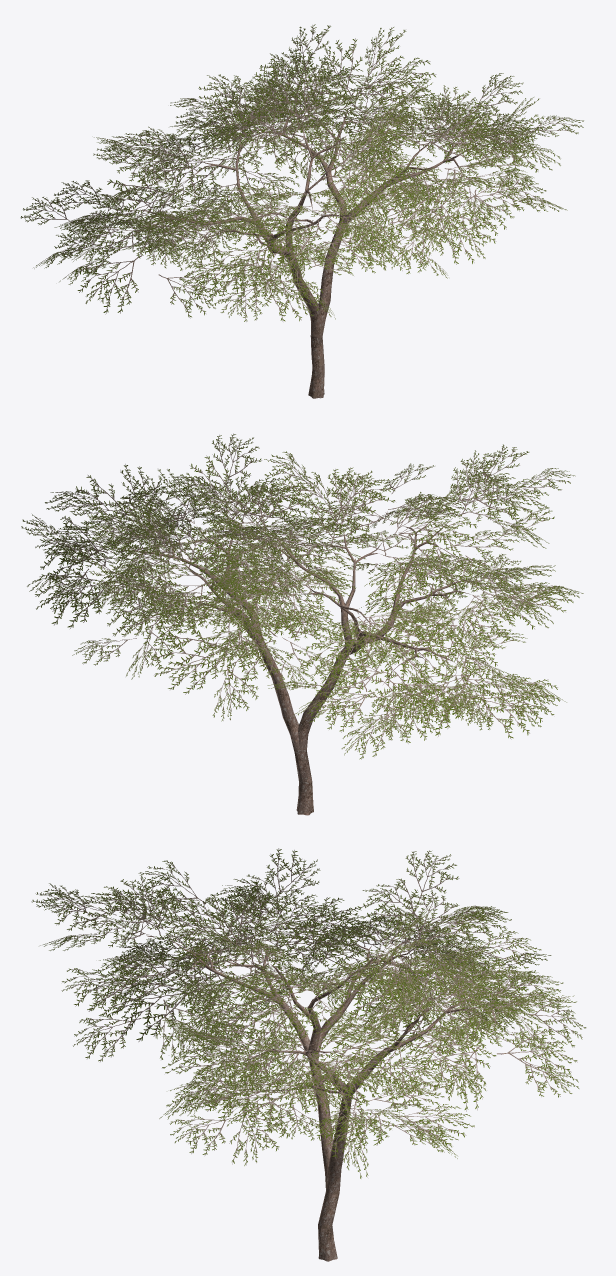
Rendered from p_acacia.glb.
3 views of the same model, one above another, from view 1: azimuth 30°, elevation 25°; view 2: azimuth 150°, elevation 25°; view 3: azimuth 270°, elevation 25° (orthographic). The views are drawn at different scales.
Parts seen in each view (by area): view 1: acacia branch_1_acacia branch_1Mat_0, bark05_0_bark05_0Mat_0; view 2: acacia branch_1_acacia branch_1Mat_0, bark05_0_bark05_0Mat_0; view 3: acacia branch_1_acacia branch_1Mat_0, bark05_0_bark05_0Mat_0.
Part boxes in pixels (x1,y1,x2,y2): acacia branch_1_acacia branch_1Mat_0: (20,24,583,321); bark05_0_bark05_0Mat_0: (118,92,499,398); acacia branch_1_acacia branch_1Mat_0: (21,433,583,759); bark05_0_bark05_0Mat_0: (110,504,482,815); acacia branch_1_acacia branch_1Mat_0: (31,848,586,1178); bark05_0_bark05_0Mat_0: (146,907,494,1261).
Bounding box in the file's own units: 12.8 × 6.9 × 10.39.
2 materials, 2 textured.
